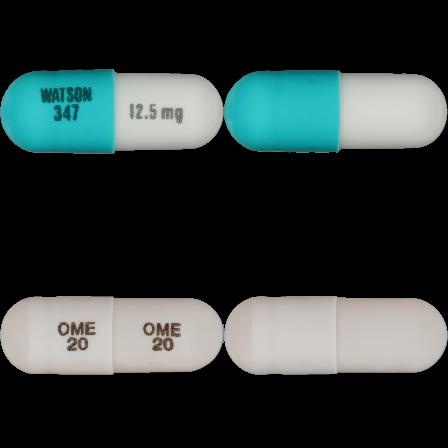0615-1358: (0, 0, 224, 224)
